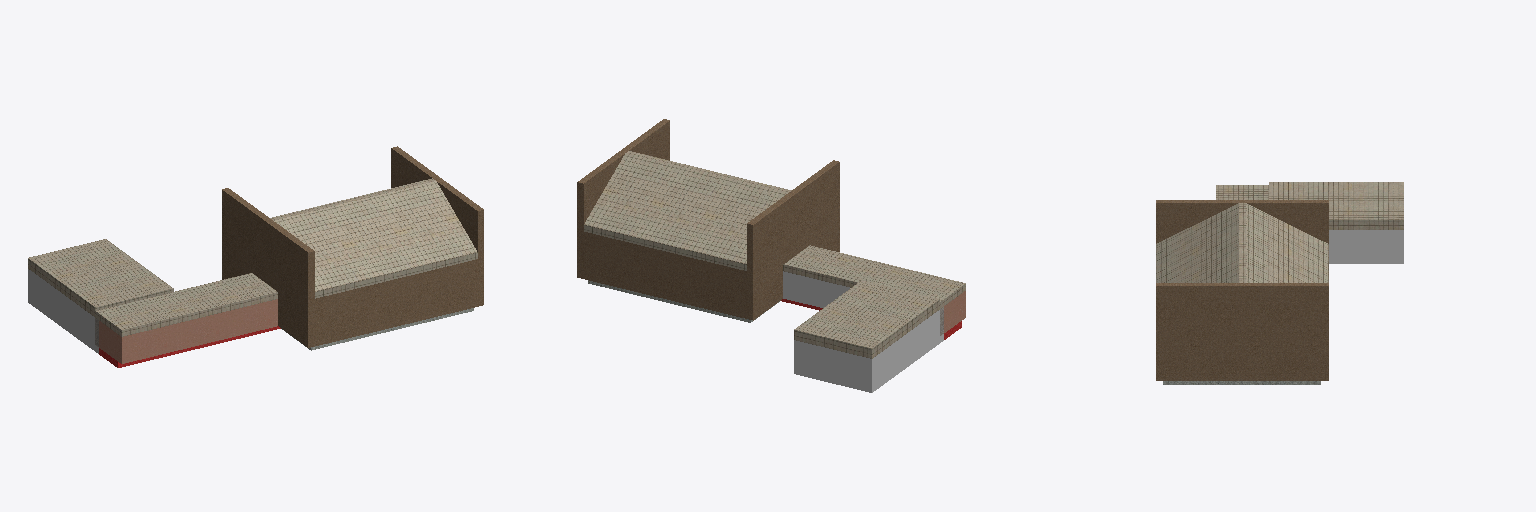
3 views of the same model, side by side, from view 1: azimuth 30°, elevation 25°; view 2: azimuth 150°, elevation 25°; view 3: azimuth 270°, elevation 25° (orthographic).
Parts seen in each view (by area): view 1: entity0_brush18, entity0_brush11, entity0_brush20, entity0_brush15, entity0_brush16, entity0_brush8, entity0_brush21, entity0_brush5, entity0_brush10, entity0_brush19, entity0_brush9; view 2: entity0_brush17, entity0_brush13, entity0_brush15, entity0_brush20, entity0_brush16, entity0_brush21, entity0_brush4, entity0_brush5, entity0_brush2, entity0_brush0, entity0_brush14, entity0_brush19 (+1 smaller); view 3: entity0_brush21, entity0_brush12, entity0_brush18, entity0_brush17, entity0_brush15, entity0_brush20, entity0_brush3, entity0_brush16, entity0_brush9, entity0_brush19, entity0_brush0.
Part boxes in pixels (left/top/right/bottom): entity0_brush18: left=274, top=181, right=477, bottom=298; entity0_brush11: left=315, top=258, right=483, bottom=345; entity0_brush20: left=222, top=188, right=314, bottom=313; entity0_brush15: left=28, top=239, right=173, bottom=316; entity0_brush16: left=95, top=273, right=277, bottom=336; entity0_brush8: left=118, top=299, right=277, bottom=363; entity0_brush21: left=391, top=146, right=483, bottom=258; entity0_brush5: left=31, top=271, right=94, bottom=343; entity0_brush10: left=278, top=292, right=314, bottom=347; entity0_brush19: left=270, top=178, right=435, bottom=220; entity0_brush9: left=282, top=308, right=473, bottom=350; entity0_brush17: left=584, top=154, right=787, bottom=270; entity0_brush13: left=584, top=232, right=756, bottom=320; entity0_brush15: left=794, top=280, right=939, bottom=358; entity0_brush20: left=747, top=160, right=839, bottom=285; entity0_brush16: left=783, top=245, right=965, bottom=308; entity0_brush21: left=577, top=119, right=669, bottom=230; entity0_brush4: left=800, top=342, right=875, bottom=385; entity0_brush5: left=876, top=310, right=939, bottom=382; entity0_brush2: left=783, top=271, right=849, bottom=307; entity0_brush0: left=794, top=334, right=943, bottom=392; entity0_brush14: left=757, top=265, right=782, bottom=317; entity0_brush19: left=625, top=151, right=791, bottom=192; entity0_brush21: left=1156, top=283, right=1328, bottom=333; entity0_brush12: left=1163, top=334, right=1328, bottom=380; entity0_brush18: left=1156, top=203, right=1238, bottom=282; entity0_brush17: left=1246, top=203, right=1328, bottom=282; entity0_brush15: left=1269, top=182, right=1403, bottom=229; entity0_brush20: left=1156, top=200, right=1328, bottom=243; entity0_brush3: left=1329, top=230, right=1403, bottom=256; entity0_brush16: left=1216, top=185, right=1268, bottom=199; entity0_brush9: left=1163, top=381, right=1320, bottom=384; entity0_brush19: left=1239, top=203, right=1245, bottom=282; entity0_brush0: left=1329, top=257, right=1403, bottom=263.
Bounding box in the file's own units: 1632 × 480 × 1056.
Materials: 9 (6 with a texture image).